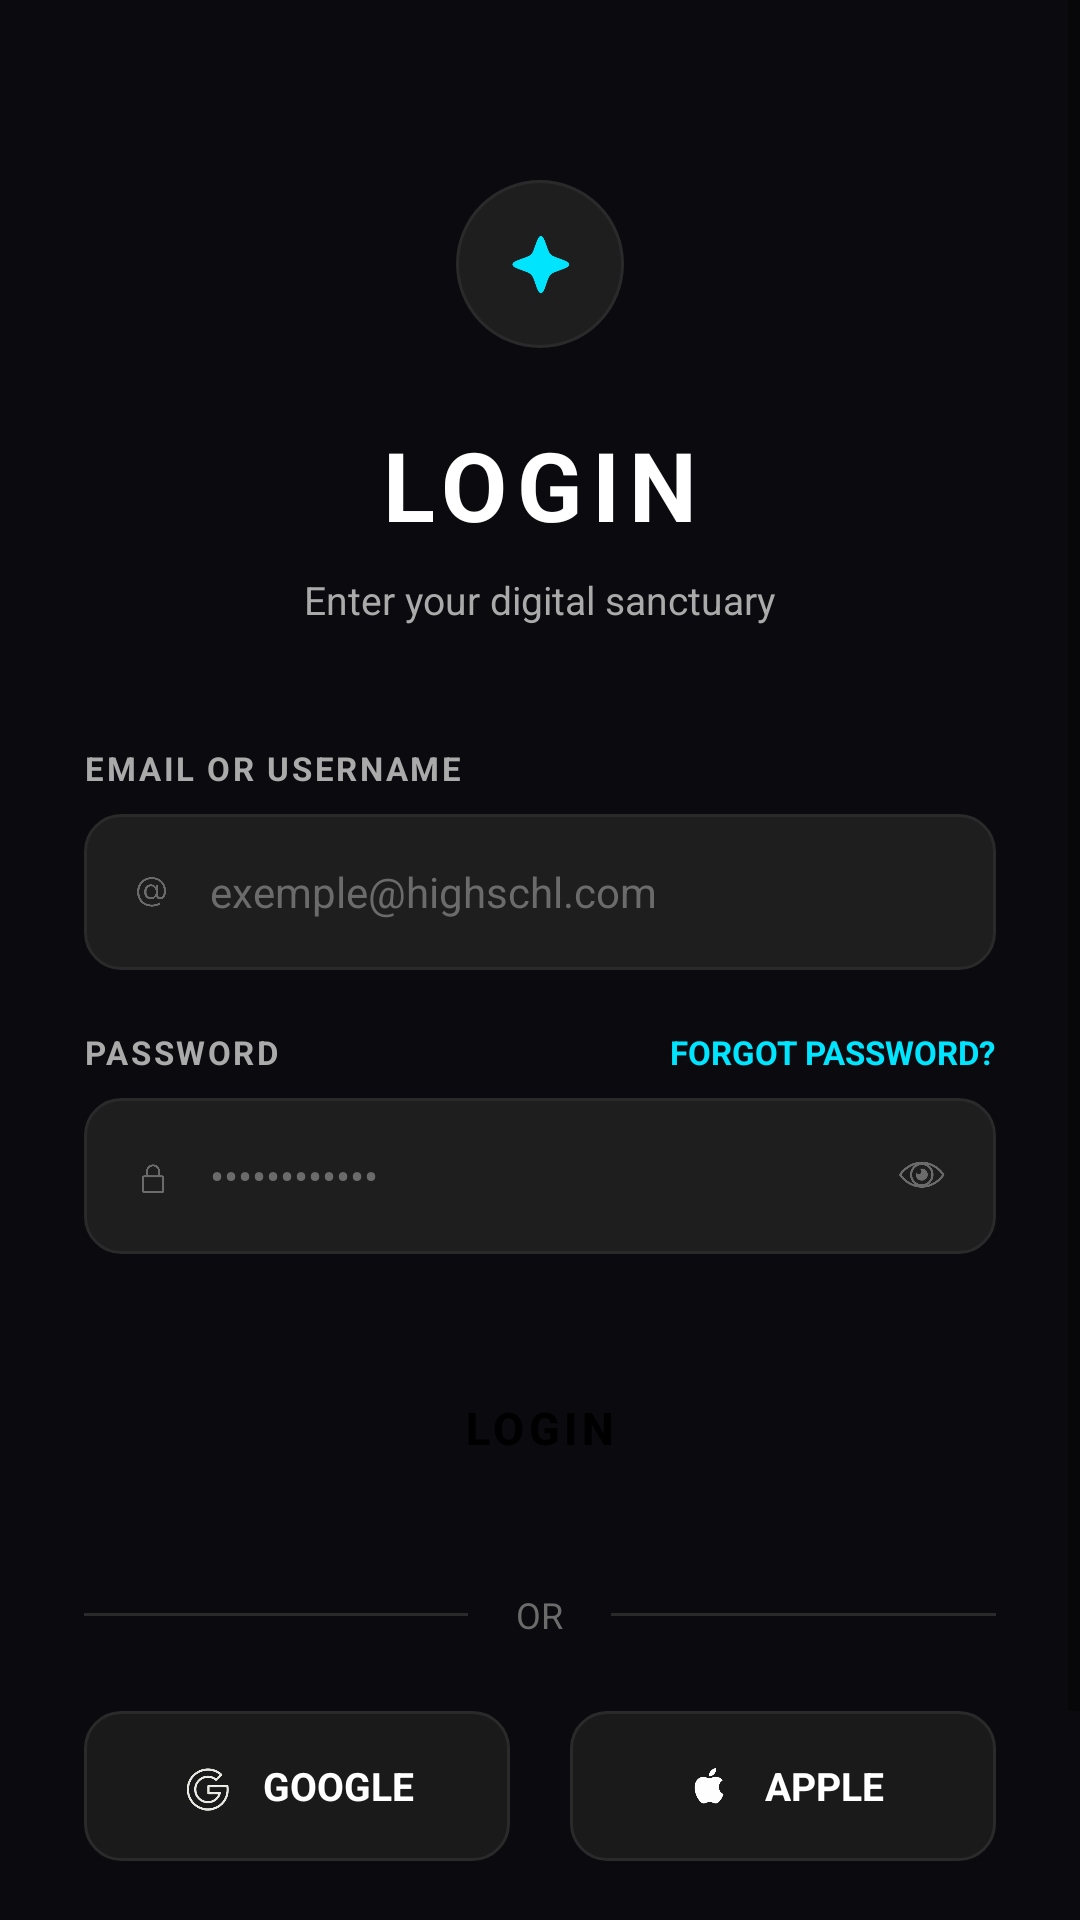

Icon click points for this 1080×1920 phone screenshot, format (x,y):
eye: (921,1175)
lock: (153,1178)
star: (540,264)
